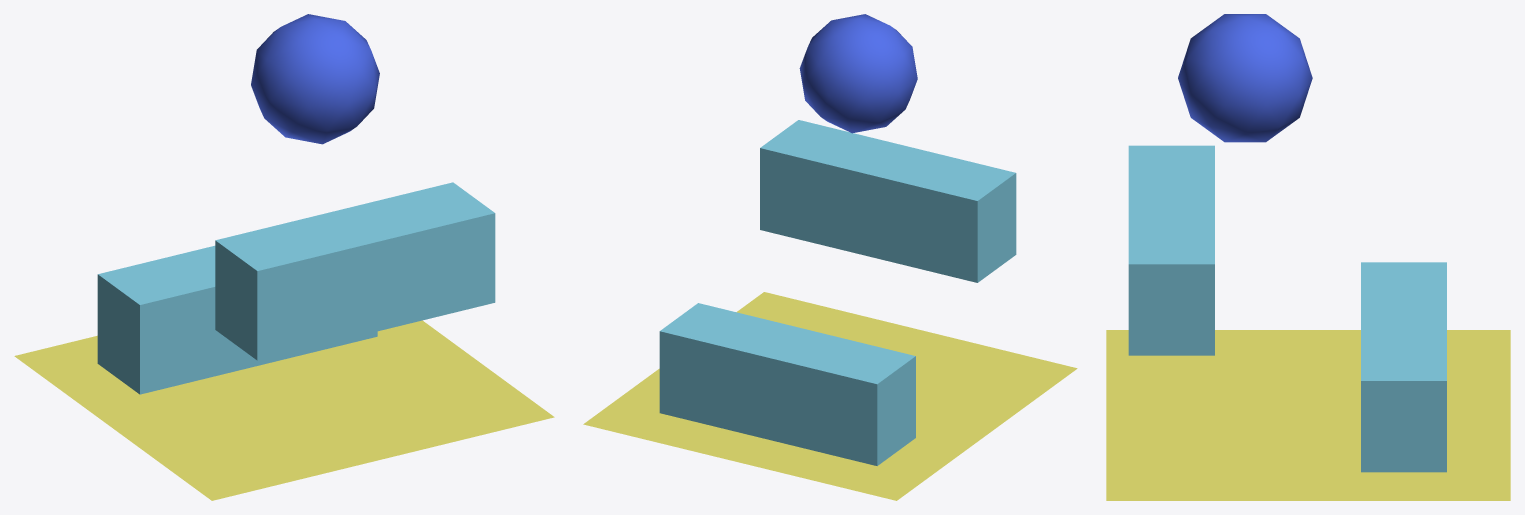
File: ball.glb
The picture shows the model from 3 angles, left to right: view 1: azimuth 30°, elevation 25°; view 2: azimuth 150°, elevation 25°; view 3: azimuth 270°, elevation 25°; orthographic projection. The views are drawn at different scales.
Visible parts, largest first — view 1: Plane, Cube.001, Cube, Icosphere; view 2: Cube.001, Cube, Plane, Icosphere; view 3: Plane, Cube.001, Cube, Icosphere.
Boxes of the visible parts, x1,y1,x2,y2 form: Plane: (14,320,554,500); Cube.001: (215,182,495,360); Cube: (97,245,377,394); Icosphere: (251,14,379,144); Cube.001: (760,120,1016,282); Cube: (659,303,915,465); Plane: (583,292,1077,500); Icosphere: (799,14,917,133); Plane: (1106,330,1510,500); Cube.001: (1128,145,1214,355); Cube: (1361,262,1446,472); Icosphere: (1178,14,1312,142).
Bounding box in the file's own units: 6 × 6.52 × 6.
